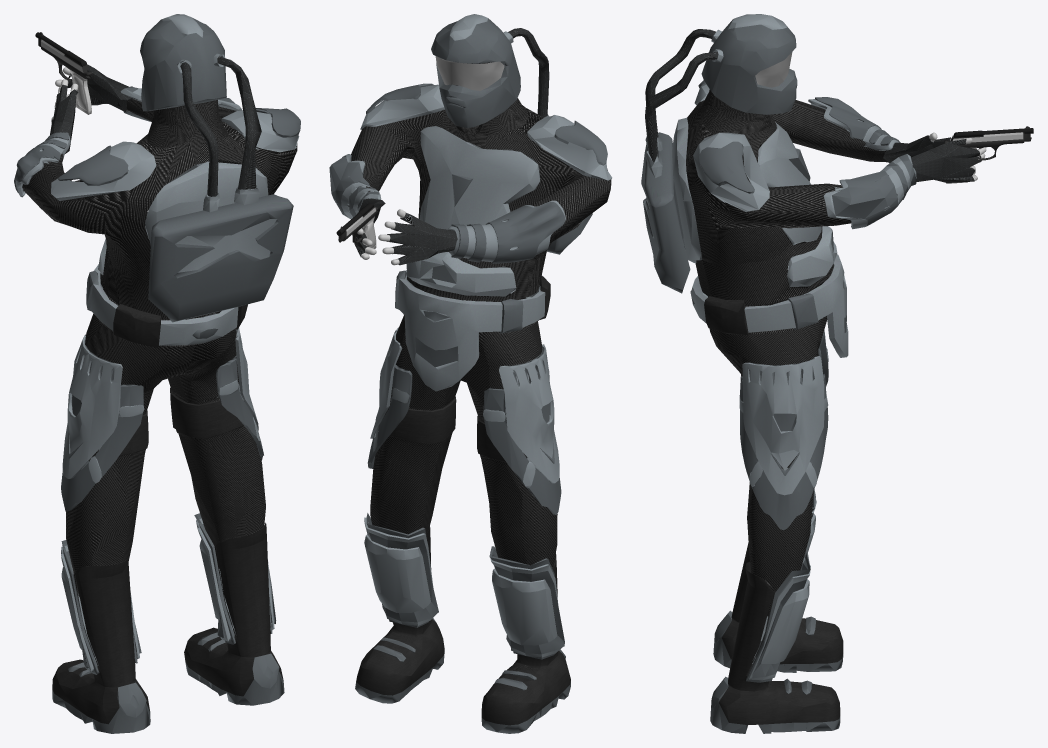
The model's file is AndarPistola.0001.obj.
The picture shows the model from 3 angles, left to right: view 1: azimuth 30°, elevation 25°; view 2: azimuth 150°, elevation 25°; view 3: azimuth 270°, elevation 25°; orthographic projection. The views are drawn at different scales.
Visible parts, largest first — view 1: personajeskefix:personaje:extrudedSurface2 polySurface12, personajeskefix:personaje:bota1 polySurface12, personajeskefix:personaje:PANTALON polySurface12, personajeskefix:personaje:CAMISETABUENA polySurface12, personajeskefix:personaje:pPipe4 polySurface12, personajeskefix:personaje:pCube4 polySurface12, personajeskefix:personaje:cosoarmdaurapierna1 polySurface12, personajeskefix:personaje:cinturon polySurface12, personajeskefix:personaje:polySurface6 polySurface12, personajeskefix:personaje:armadbota1 polySurface12, pistola:Cylinder001 polySurface12, personajeskefix:personaje:HOMBRO2 polySurface12 (+6 smaller); view 2: personajeskefix:personaje:pPipe4 polySurface12, personajeskefix:personaje:PANTALON polySurface12, personajeskefix:personaje:CAMISETABUENA polySurface12, personajeskefix:personaje:bota1 polySurface12, personajeskefix:personaje:cinturon polySurface12, personajeskefix:personaje:armadbota1 polySurface12, personajeskefix:personaje:pCube4 polySurface12, personajeskefix:personaje:extrudedSurface2 polySurface12, personajeskefix:personaje:cosoarmdaurapierna1 polySurface12, personajeskefix:personaje:polySurface2 polySurface12, personajeskefix:personaje:polySurface6 polySurface12, personajeskefix:personaje:gafas polySurface12 (+8 smaller); view 3: personajeskefix:personaje:CAMISETABUENA polySurface12, personajeskefix:personaje:pPipe4 polySurface12, personajeskefix:personaje:extrudedSurface2 polySurface12, personajeskefix:personaje:bota1 polySurface12, personajeskefix:personaje:pCube4 polySurface12, personajeskefix:personaje:PANTALON polySurface12, personajeskefix:personaje:cinturon polySurface12, personajeskefix:personaje:cosoarmadurapierna2 polySurface12, personajeskefix:personaje:armadbota1 polySurface12, personajeskefix:personaje:hombro1 polySurface12, pistola:Cylinder001 polySurface12, personajeskefix:personaje:polySurface2 polySurface12 (+4 smaller).
Boxes of the visible parts, bbox=[...] form: personajeskefix:personaje:extrudedSurface2 polySurface12: bbox=[140, 14, 293, 322]; personajeskefix:personaje:bota1 polySurface12: bbox=[52, 523, 284, 733]; personajeskefix:personaje:PANTALON polySurface12: bbox=[66, 288, 265, 596]; personajeskefix:personaje:CAMISETABUENA polySurface12: bbox=[22, 98, 297, 346]; personajeskefix:personaje:pPipe4 polySurface12: bbox=[43, 64, 299, 273]; personajeskefix:personaje:pCube4 polySurface12: bbox=[61, 313, 276, 674]; personajeskefix:personaje:cosoarmdaurapierna1 polySurface12: bbox=[62, 334, 144, 483]; personajeskefix:personaje:cinturon polySurface12: bbox=[86, 264, 247, 347]; personajeskefix:personaje:polySurface6 polySurface12: bbox=[119, 387, 243, 456]; personajeskefix:personaje:armadbota1 polySurface12: bbox=[61, 518, 274, 671]; pistola:Cylinder001 polySurface12: bbox=[35, 32, 92, 114]; personajeskefix:personaje:HOMBRO2 polySurface12: bbox=[58, 145, 128, 185]; personajeskefix:personaje:pPipe4 polySurface12: bbox=[329, 84, 612, 296]; personajeskefix:personaje:PANTALON polySurface12: bbox=[370, 289, 557, 568]; personajeskefix:personaje:CAMISETABUENA polySurface12: bbox=[347, 62, 611, 330]; personajeskefix:personaje:bota1 polySurface12: bbox=[355, 526, 570, 733]; personajeskefix:personaje:cinturon polySurface12: bbox=[395, 266, 550, 391]; personajeskefix:personaje:armadbota1 polySurface12: bbox=[364, 517, 562, 657]; personajeskefix:personaje:pCube4 polySurface12: bbox=[365, 327, 564, 659]; personajeskefix:personaje:extrudedSurface2 polySurface12: bbox=[431, 14, 592, 254]; personajeskefix:personaje:cosoarmdaurapierna1 polySurface12: bbox=[483, 344, 559, 488]; personajeskefix:personaje:polySurface2 polySurface12: bbox=[451, 202, 565, 263]; personajeskefix:personaje:polySurface6 polySurface12: bbox=[390, 396, 505, 461]; personajeskefix:personaje:gafas polySurface12: bbox=[435, 56, 504, 90]; personajeskefix:personaje:CAMISETABUENA polySurface12: bbox=[686, 89, 897, 334]; personajeskefix:personaje:pPipe4 polySurface12: bbox=[672, 83, 981, 286]; personajeskefix:personaje:extrudedSurface2 polySurface12: bbox=[641, 14, 797, 293]; personajeskefix:personaje:bota1 polySurface12: bbox=[710, 542, 843, 733]; personajeskefix:personaje:pCube4 polySurface12: bbox=[739, 330, 828, 682]; personajeskefix:personaje:PANTALON polySurface12: bbox=[708, 271, 829, 616]; personajeskefix:personaje:cinturon polySurface12: bbox=[690, 244, 848, 357]; personajeskefix:personaje:cosoarmadurapierna2 polySurface12: bbox=[739, 369, 828, 530]; personajeskefix:personaje:armadbota1 polySurface12: bbox=[749, 499, 816, 680]; personajeskefix:personaje:hombro1 polySurface12: bbox=[699, 141, 754, 193]; pistola:Cylinder001 polySurface12: bbox=[944, 126, 1033, 183]; personajeskefix:personaje:polySurface2 polySurface12: bbox=[815, 97, 900, 163].
Bounding box in the file's own units: 3.65 × 9.65 × 5.03.
